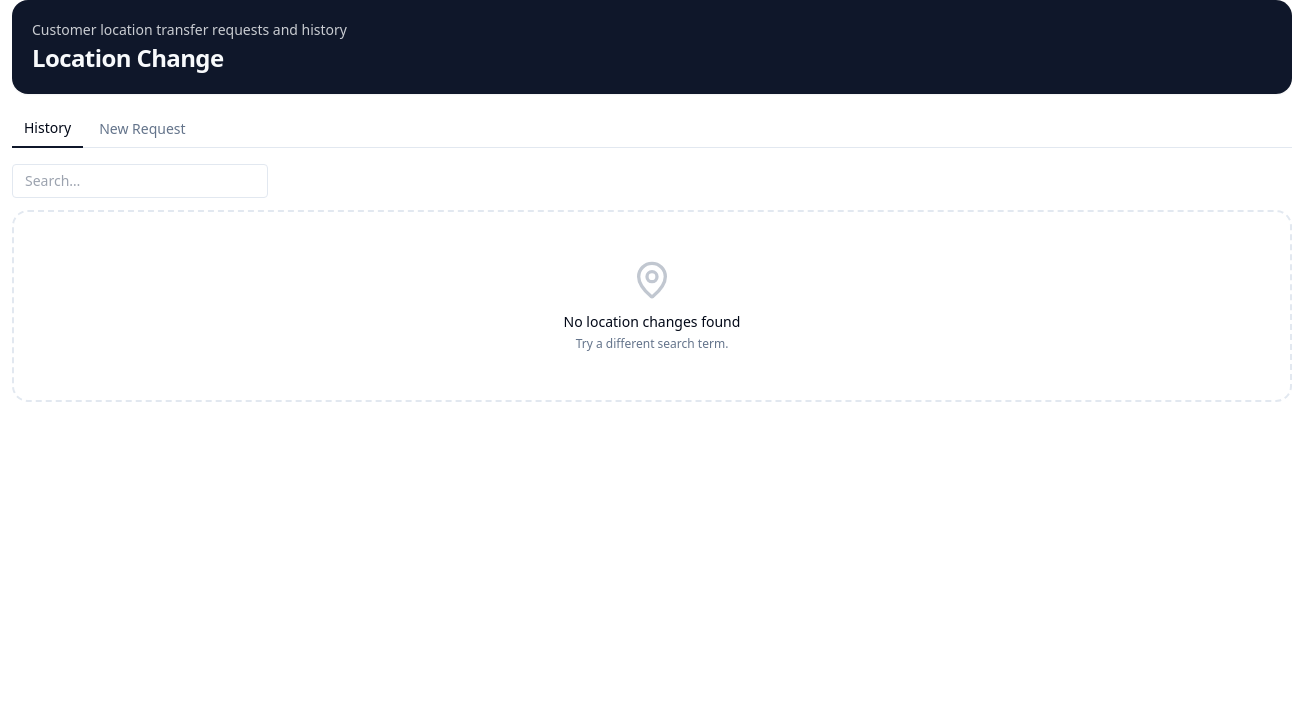
Test: LocationChangePage › failed submit shows error message and does not clear form
Click the tab "New Request": click(142, 129) [87,110,198,148]
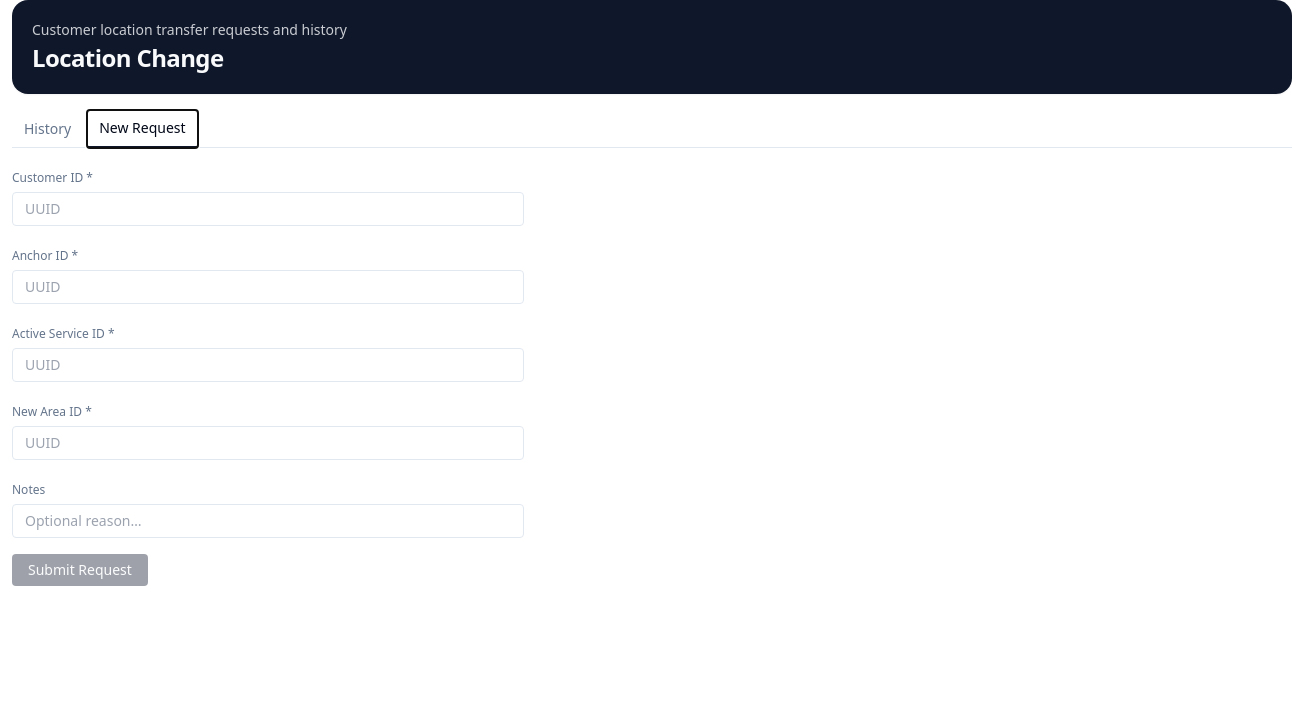
In the field with placeholder "UUID" below "Customer ID *": (268, 209) [12,192,524,226], type "cust-1"
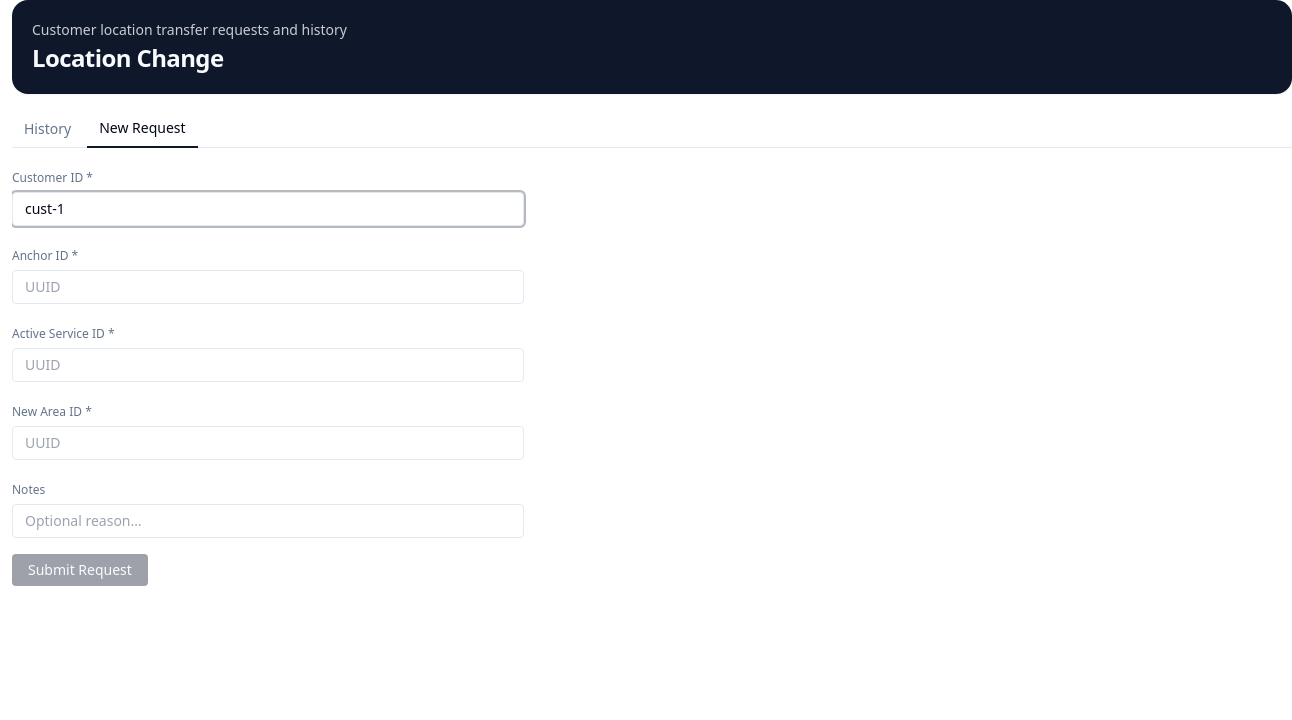
In the field with placeholder "UUID" below "Anchor ID *": (268, 287) [12,270,524,304], type "anch-1"
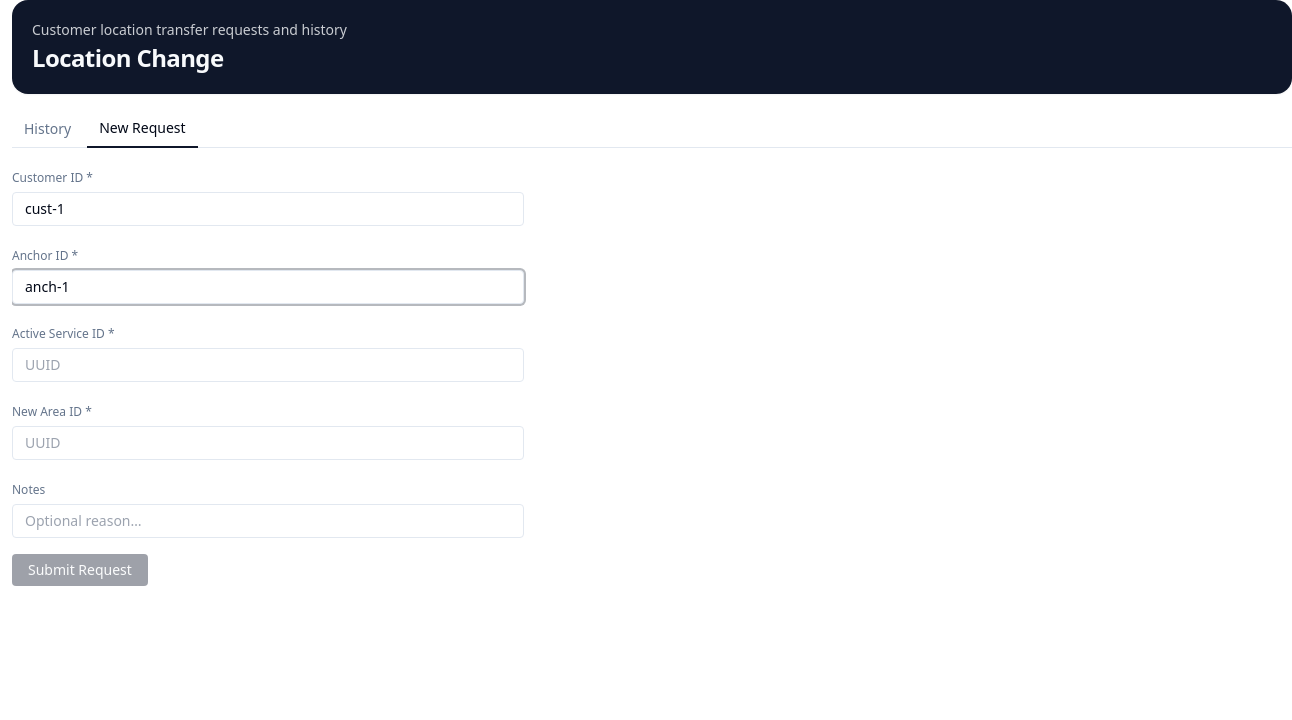
In the field with placeholder "UUID" below "Active Service ID *": (268, 365) [12,348,524,382], type "svc-1"
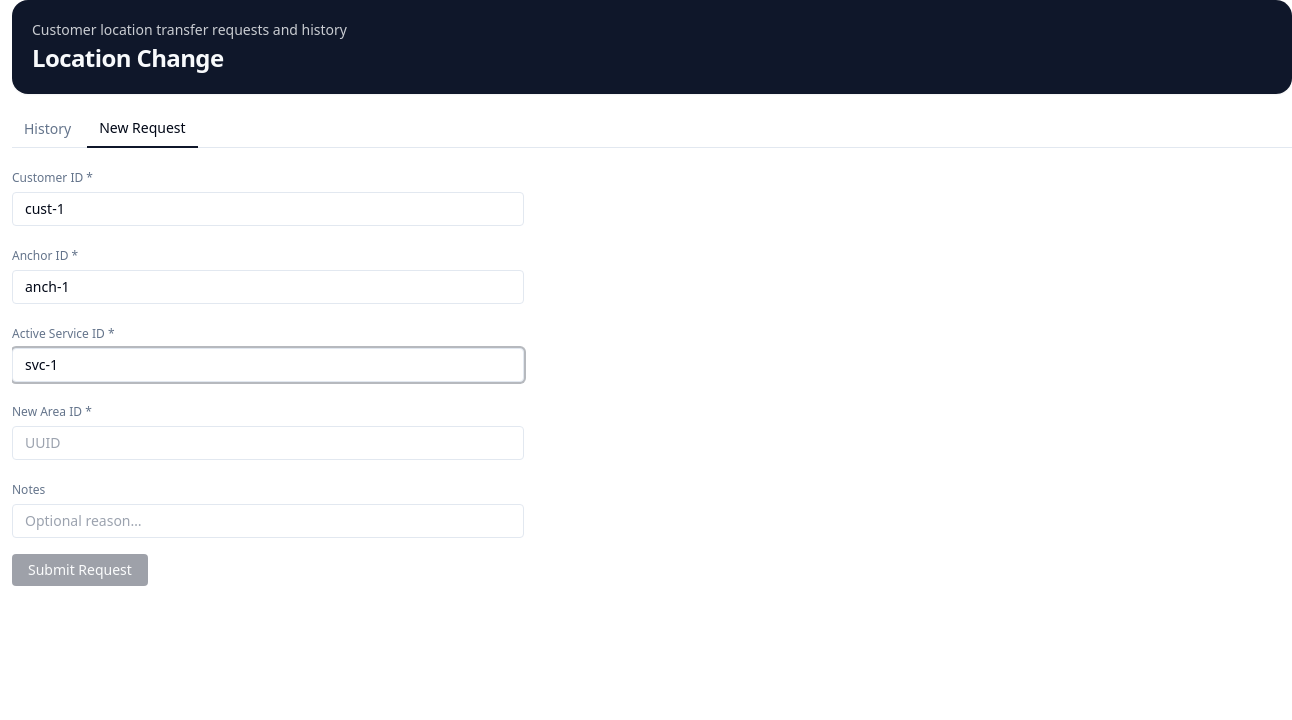
In the field with placeholder "UUID": (268, 443) [12,426,524,460], type "area-1"
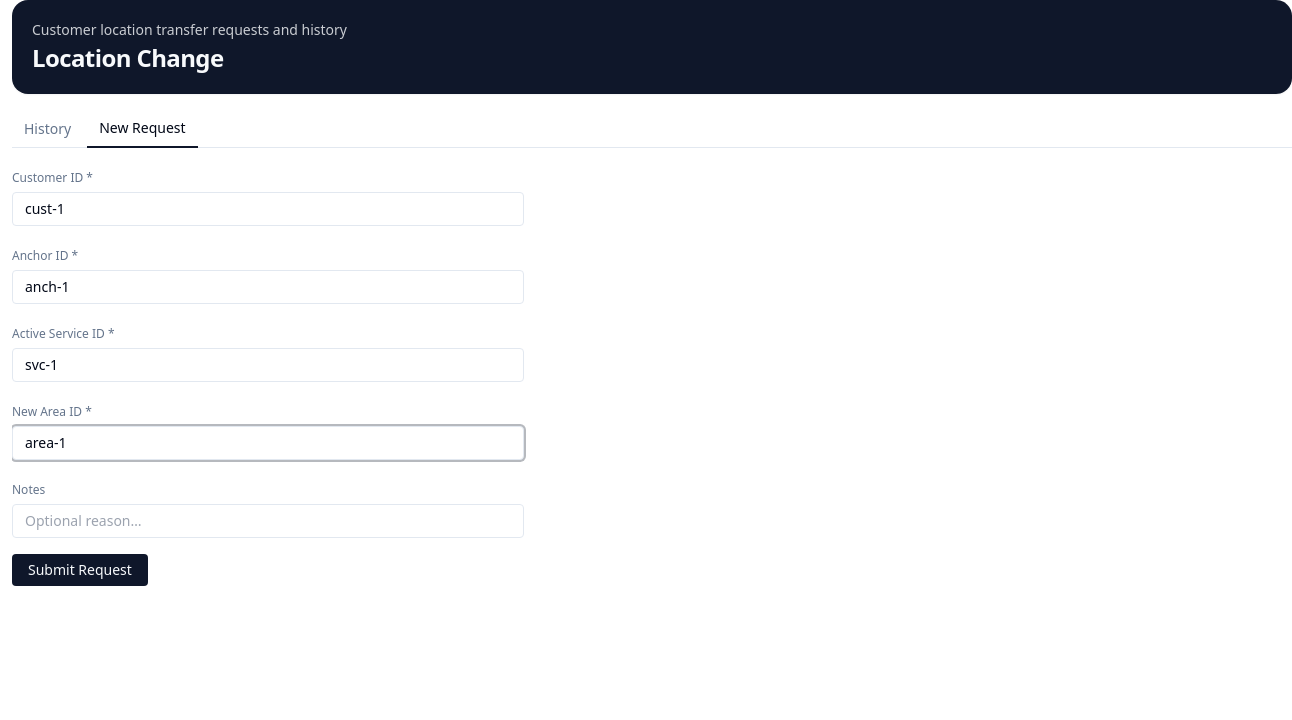
Click the button "Submit Request": click(80, 570) [12,554,148,586]
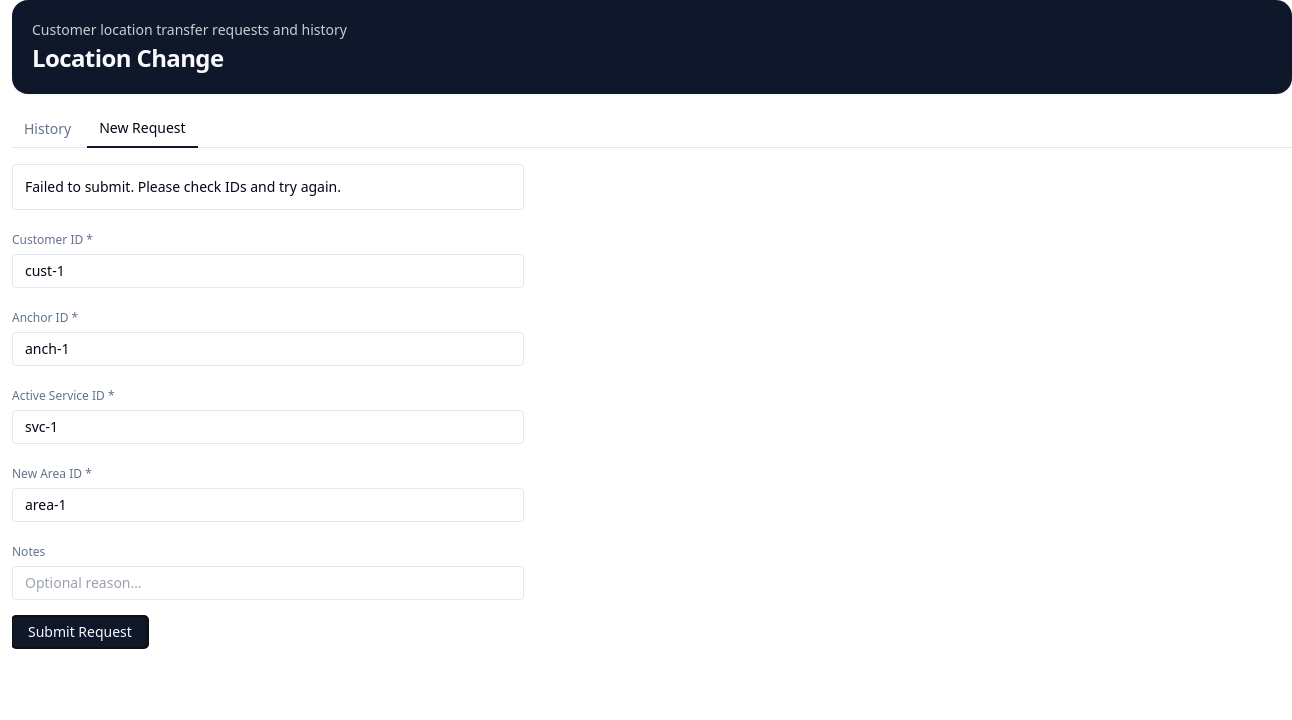
Check: the text "Failed to submit. Please check IDs and try again." is shown, box [12,164,524,210]
